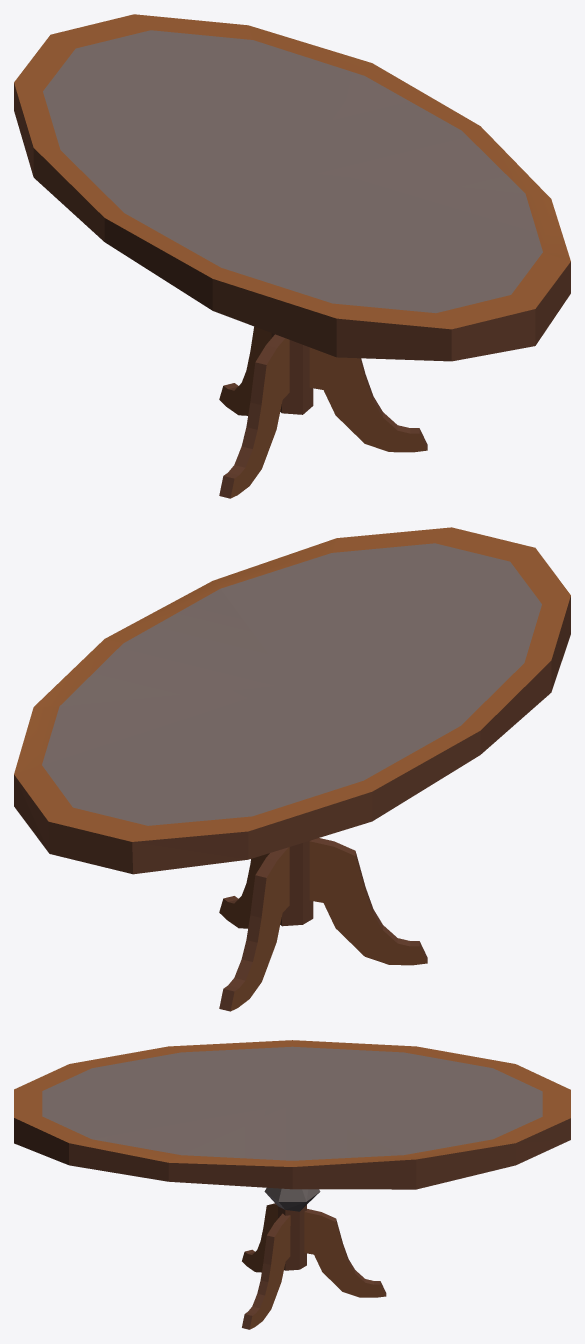
Rendered from table_side_low_dowstairs.fbx.
The picture shows the model from 3 angles, top to bottom: view 1: azimuth 30°, elevation 25°; view 2: azimuth 150°, elevation 25°; view 3: azimuth 270°, elevation 25°; orthographic projection. The views are drawn at different scales.
Visible parts, largest first — view 1: table_side_small; view 2: table_side_small; view 3: table_side_small.
Part boxes in pixels (<box>): table_side_small: <box>14,14,570,498</box>; table_side_small: <box>14,527,570,1011</box>; table_side_small: <box>14,1040,570,1329</box>.
Bounding box in the file's own units: 63.28 × 44.99 × 117.
